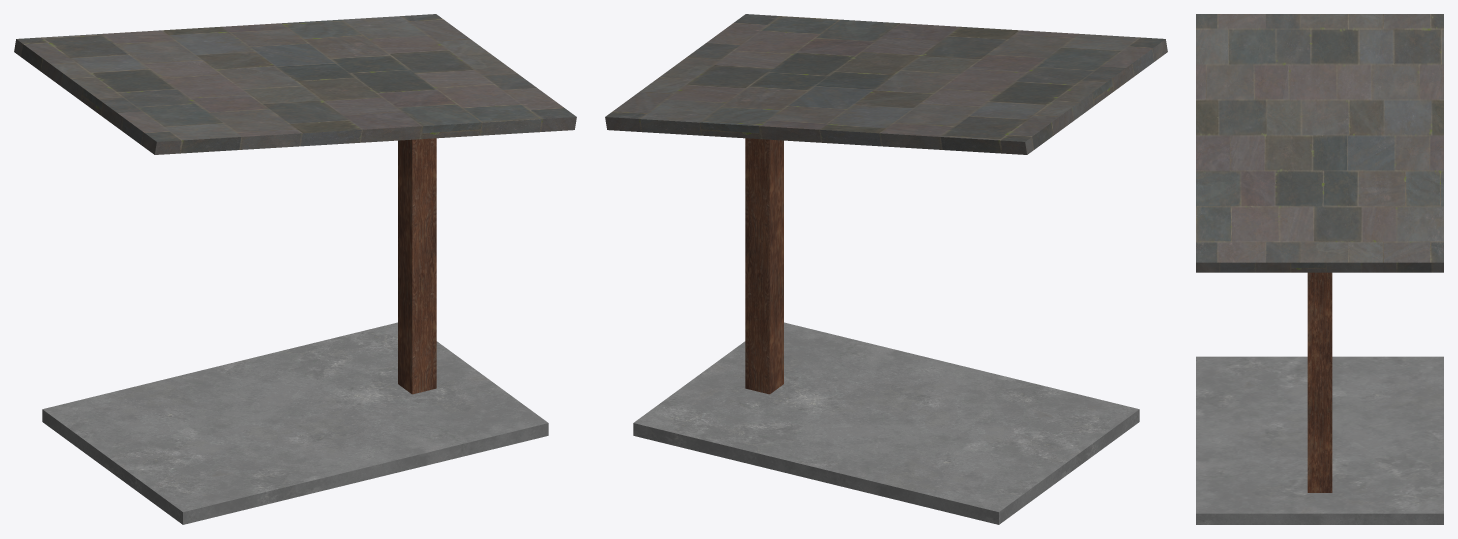
Rendered from godot_export_test.dae.
The picture shows the model from 3 angles, left to right: view 1: azimuth 30°, elevation 25°; view 2: azimuth 150°, elevation 25°; view 3: azimuth 270°, elevation 25°; orthographic projection. The views are drawn at different scales.
Parts seen in each view (by area): view 1: Cube.001, Cube.002, Cube; view 2: Cube.001, Cube.002, Cube; view 3: Cube.001, Cube.002, Cube.
Boxes of the visible parts, <box> form: Cube.001: <box>14,14,576,154</box>; Cube.002: <box>42,322,548,524</box>; Cube: <box>398,138,436,394</box>; Cube.001: <box>605,14,1167,154</box>; Cube.002: <box>633,322,1139,524</box>; Cube: <box>745,138,783,394</box>; Cube.001: <box>1196,14,1443,272</box>; Cube.002: <box>1196,356,1443,524</box>; Cube: <box>1307,272,1332,492</box>.
Bounding box in the file's own units: 3.46 × 2 × 3.05.
Materials: 3 (3 with a texture image).
